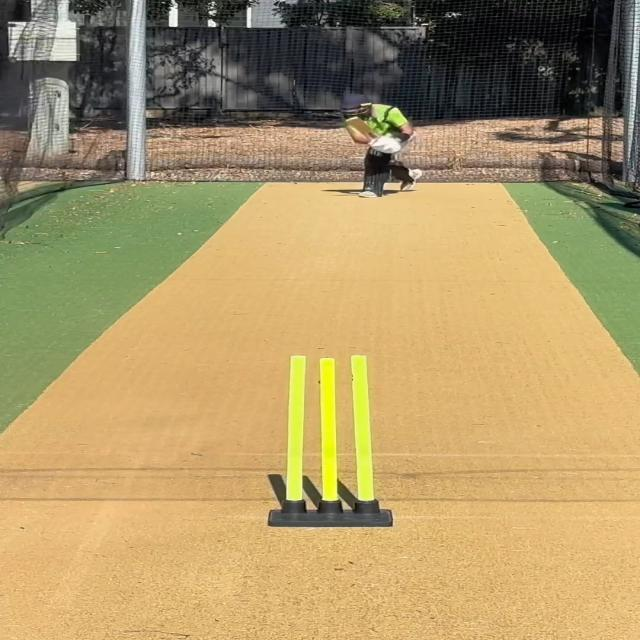stump: (267, 352, 390, 526)
